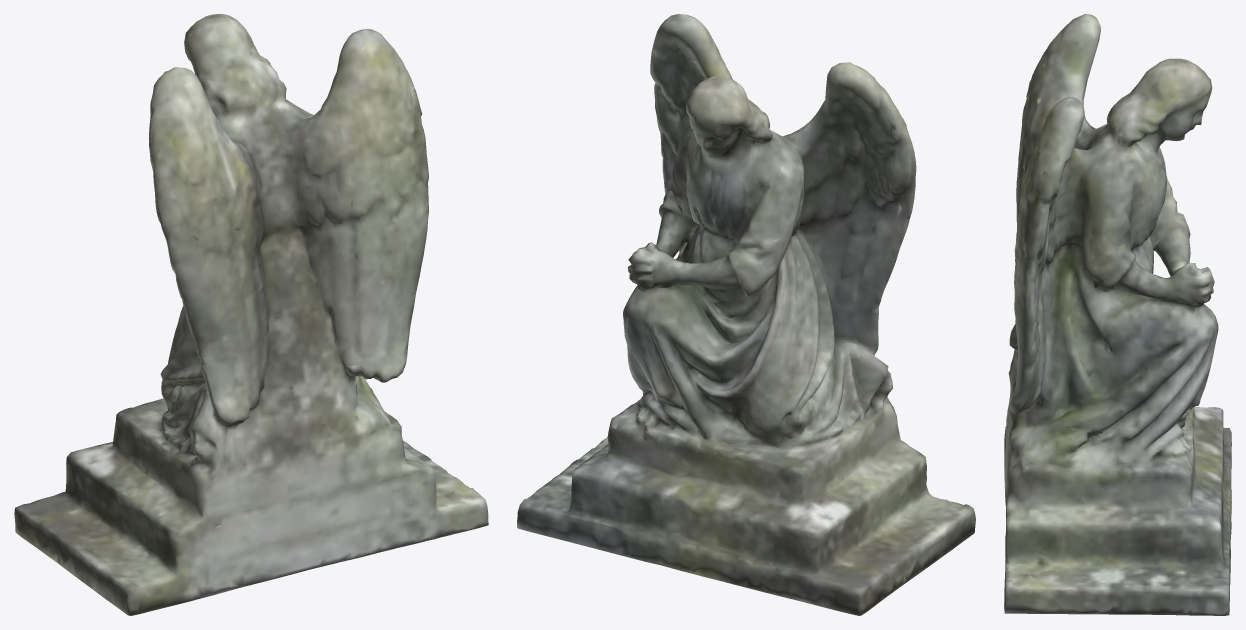
File: warden-grab.glb
The picture shows the model from 3 angles, left to right: view 1: azimuth 30°, elevation 25°; view 2: azimuth 150°, elevation 25°; view 3: azimuth 270°, elevation 25°; orthographic projection. The views are drawn at different scales.
Parts seen in each view (by area): view 1: low; view 2: low; view 3: low.
Part boxes in pixels (left/top/right/bottom): low: left=14, top=14, right=488, bottom=615; low: left=517, top=14, right=975, bottom=615; low: left=1004, top=14, right=1231, bottom=615.
Size of the model in its own units: 1.82 by 2.4 by 1.04.
1 material, 1 textured.
